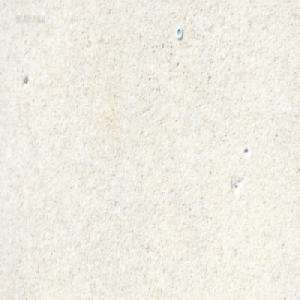Washer: (175, 26, 183, 40)
